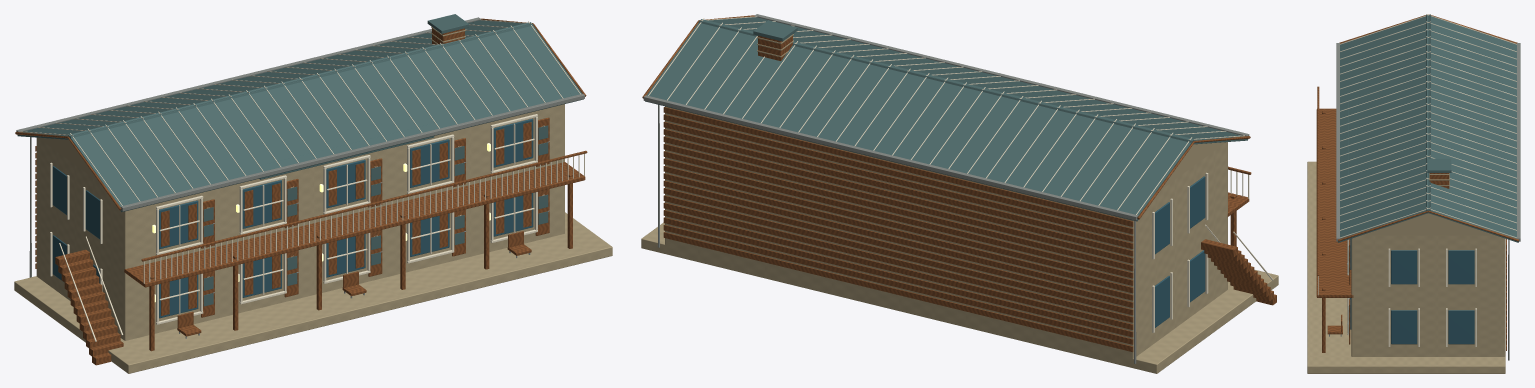
Rendered from horizon-lodge.glb.
3 renders of one model, left to right at view 1: azimuth 30°, elevation 25°; view 2: azimuth 150°, elevation 25°; view 3: azimuth 270°, elevation 25°, orthographic. The views are drawn at different scales.
Visible parts, largest first — view 1: Standing seam roof, Lodge chalk plaster, Lodge red cedar, Lodge ivory trim, Lodge glass, Lodge hardware; view 2: Lodge red cedar, Standing seam roof, Lodge chalk plaster, Lodge ivory trim, Lodge hardware, Lodge glass; view 3: Standing seam roof, Lodge chalk plaster, Lodge ivory trim, Lodge red cedar, Lodge glass, Lodge hardware.
Boxes of the visible parts, x1,y1,x2,y2 form: Standing seam roof: [17, 14, 583, 306]; Lodge chalk plaster: [14, 22, 612, 373]; Lodge red cedar: [15, 18, 587, 365]; Lodge ivory trim: [20, 19, 584, 341]; Lodge glass: [52, 118, 533, 318]; Lodge hardware: [16, 17, 584, 338]; Lodge red cedar: [642, 15, 1276, 352]; Standing seam roof: [645, 17, 1248, 221]; Lodge chalk plaster: [641, 34, 1278, 373]; Lodge ivory trim: [648, 16, 1273, 332]; Lodge hardware: [643, 14, 1249, 363]; Lodge glass: [1155, 176, 1205, 327]; Standing seam roof: [1337, 15, 1518, 333]; Lodge chalk plaster: [1307, 161, 1505, 373]; Lodge ivory trim: [1318, 14, 1516, 346]; Lodge red cedar: [1316, 14, 1518, 352]; Lodge glass: [1349, 239, 1474, 344]; Lodge hardware: [1329, 43, 1520, 360].
Bounding box in the file's own units: 22.7 × 8.65 × 9.68.
7 materials, 2 textured.
